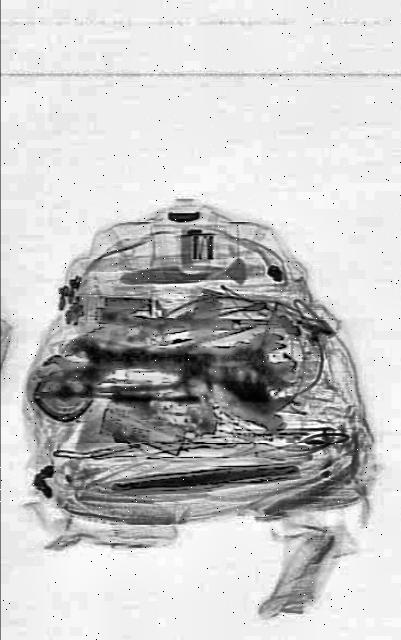Wrench: (173, 320, 297, 418), (61, 335, 175, 383), (41, 351, 84, 384)
